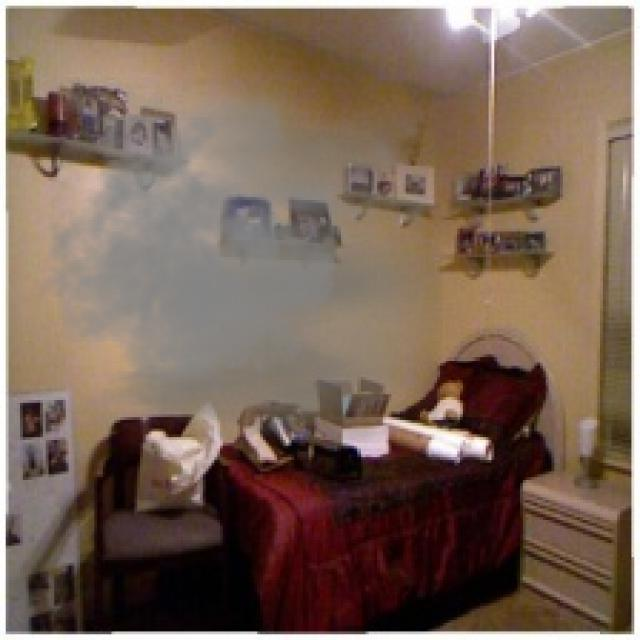Smoke: (37, 77, 443, 443)
